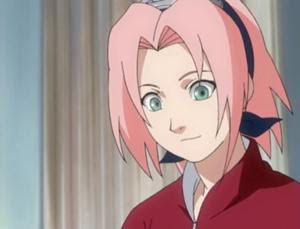sakura: (118, 3, 258, 166)
